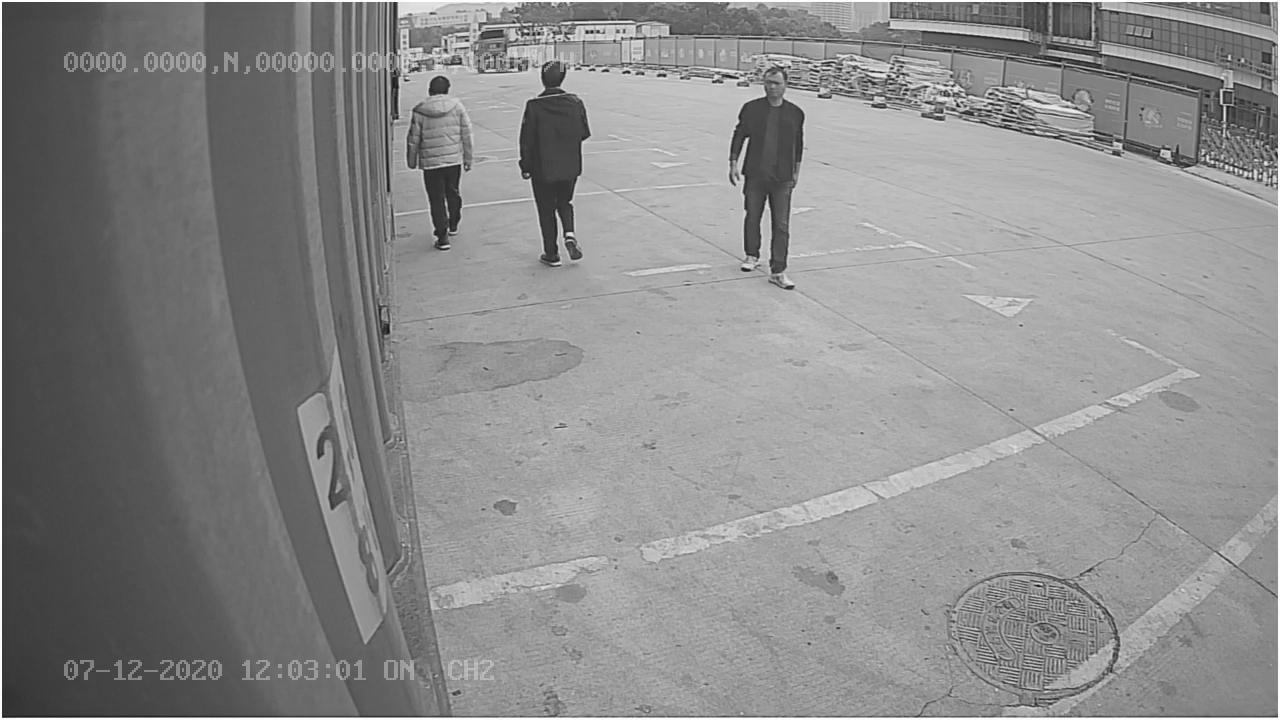person: (727, 61, 808, 295)
